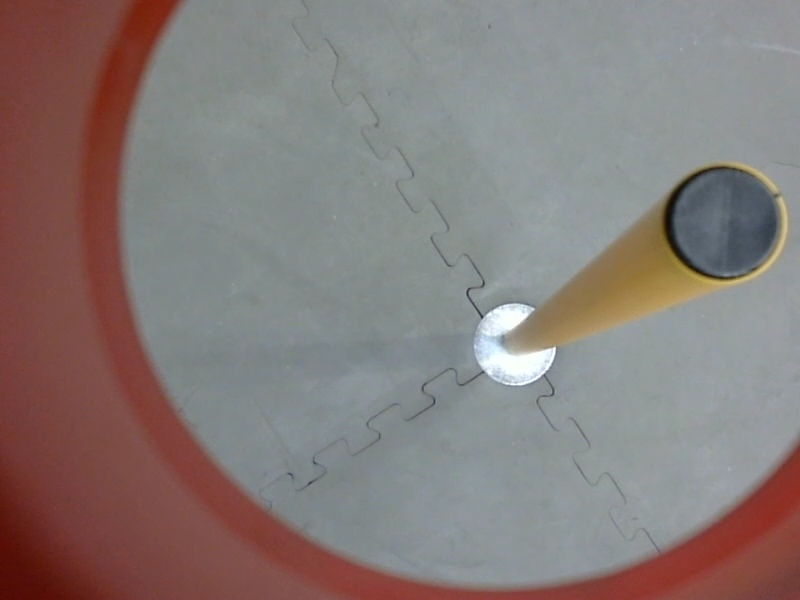tip: (653, 155, 793, 292)
